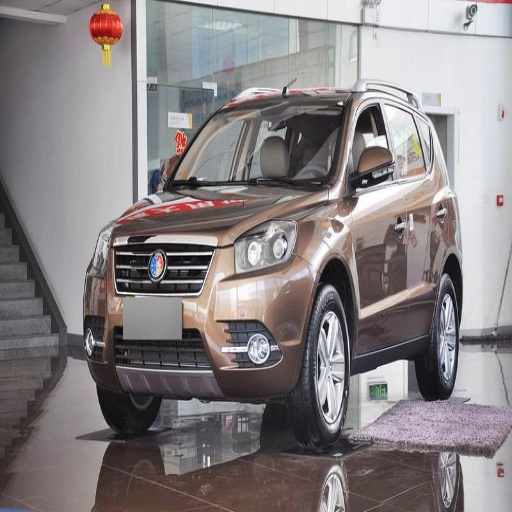front_bumper: (89, 228, 316, 401)
front_glass: (165, 104, 339, 189)
front_left_door: (345, 98, 406, 353)
